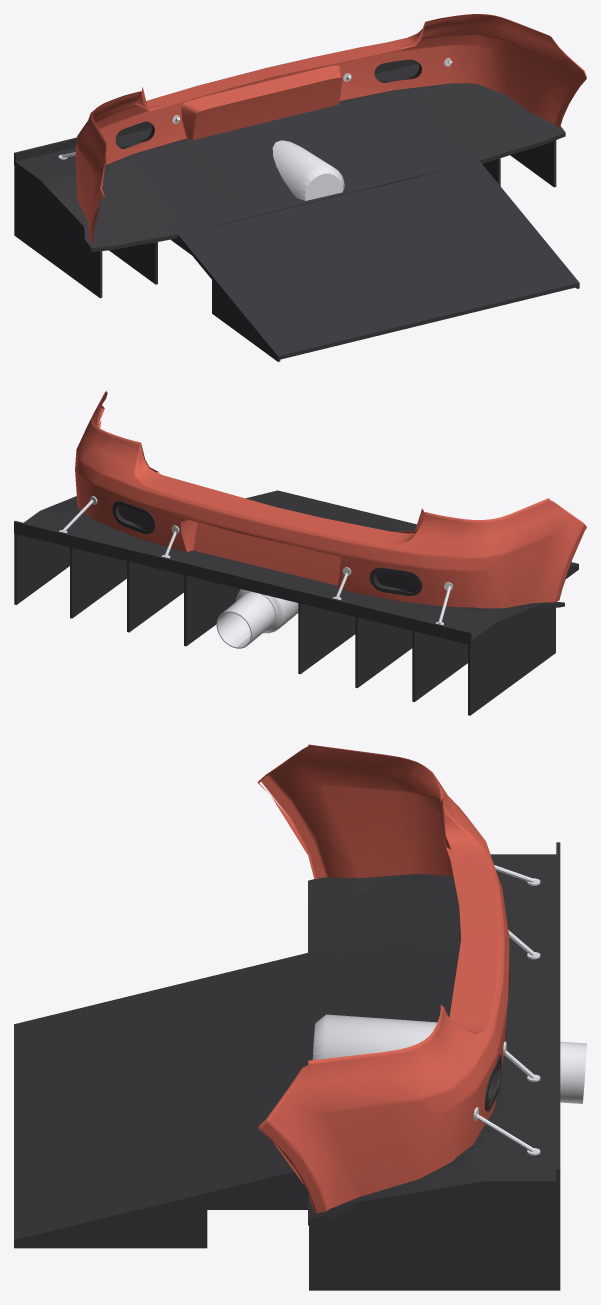
File: wendtStrom_rearBumper_trackWild.glb
3 views of the same model, one above another, from view 1: azimuth 30°, elevation 25°; view 2: azimuth 150°, elevation 25°; view 3: azimuth 270°, elevation 25° (orthographic). The views are drawn at different scales.
Visible parts, largest first — view 1: rearBumper_trackWild; view 2: rearBumper_trackWild; view 3: rearBumper_trackWild.
Part boxes in pixels (<box>): rearBumper_trackWild: <box>14,14,586,361</box>; rearBumper_trackWild: <box>14,391,586,715</box>; rearBumper_trackWild: <box>14,744,586,1290</box>.
Bounding box in the file's own units: 1.7 × 0.5545 × 1.19.
